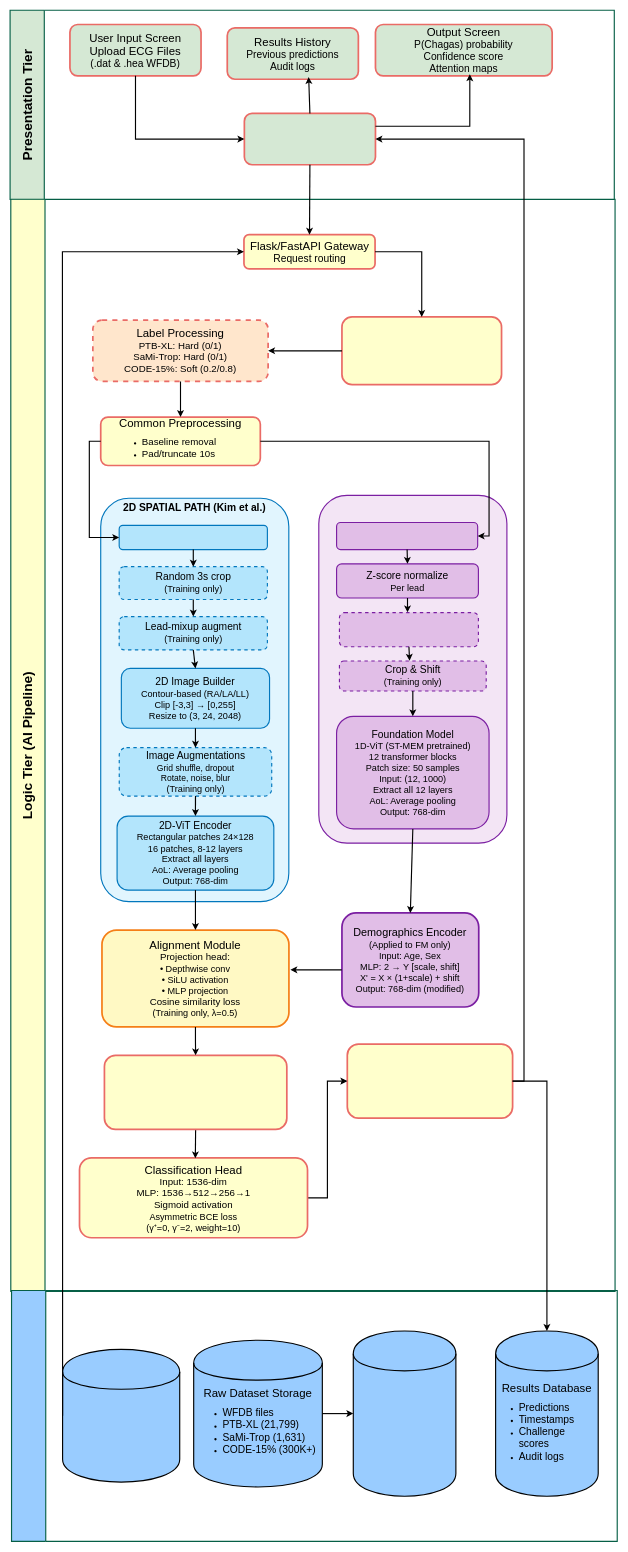
The diagram is 628 pixels wide and 1552 high, and some of its shapes have lost their labels. Each missing label, with the box of its shape:
1D FM PATH (Van Santvliet): (318, 495, 507, 843)
Data Tier: (11, 1290, 617, 1542)
Ensemble Inference 5 models (5-fold CV) Average probabilities Final P(Chagas): (346, 1043, 513, 1119)
Feature Fusion Concatenate: 2D-ViT (768) + FM_modified (768) Total: 1536-dim: (103, 1054, 287, 1130)
Input Validation WFDB format check 12-lead verification Signal quality: (341, 316, 502, 385)
Model Registry 2D-ViT weights FM weights 5-fold models Checkpoints: (62, 1348, 180, 1482)
Powerline Augment 50/60 Hz, SNR 15-30dB (Training only): (339, 612, 479, 647)
Processed Cache 2D images (.npy) 1D signals (.npy) Metadata (.csv) HDF5 format: (352, 1330, 456, 1497)
Processing Screen Real-time status Progress bar: (243, 112, 376, 165)
Resample to 100 Hz: (336, 522, 478, 550)
Resample to 500 Hz: (118, 525, 268, 550)
